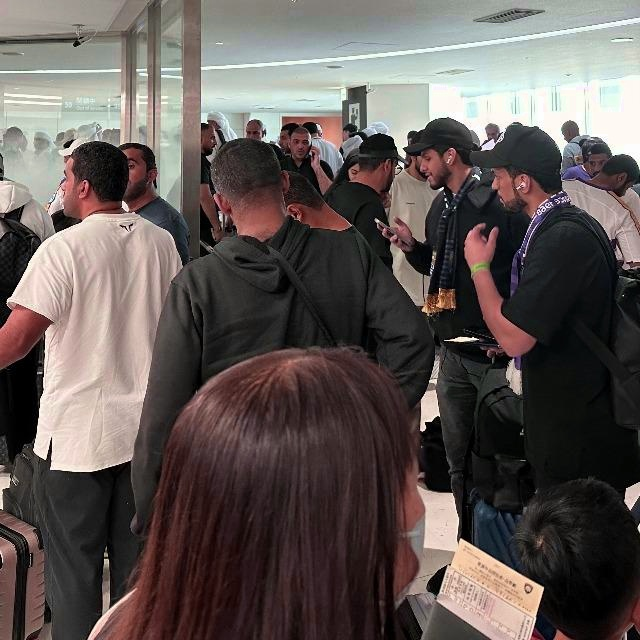Sin_Casco_Mascarrilla: (210, 137, 286, 219), (61, 141, 128, 219)
